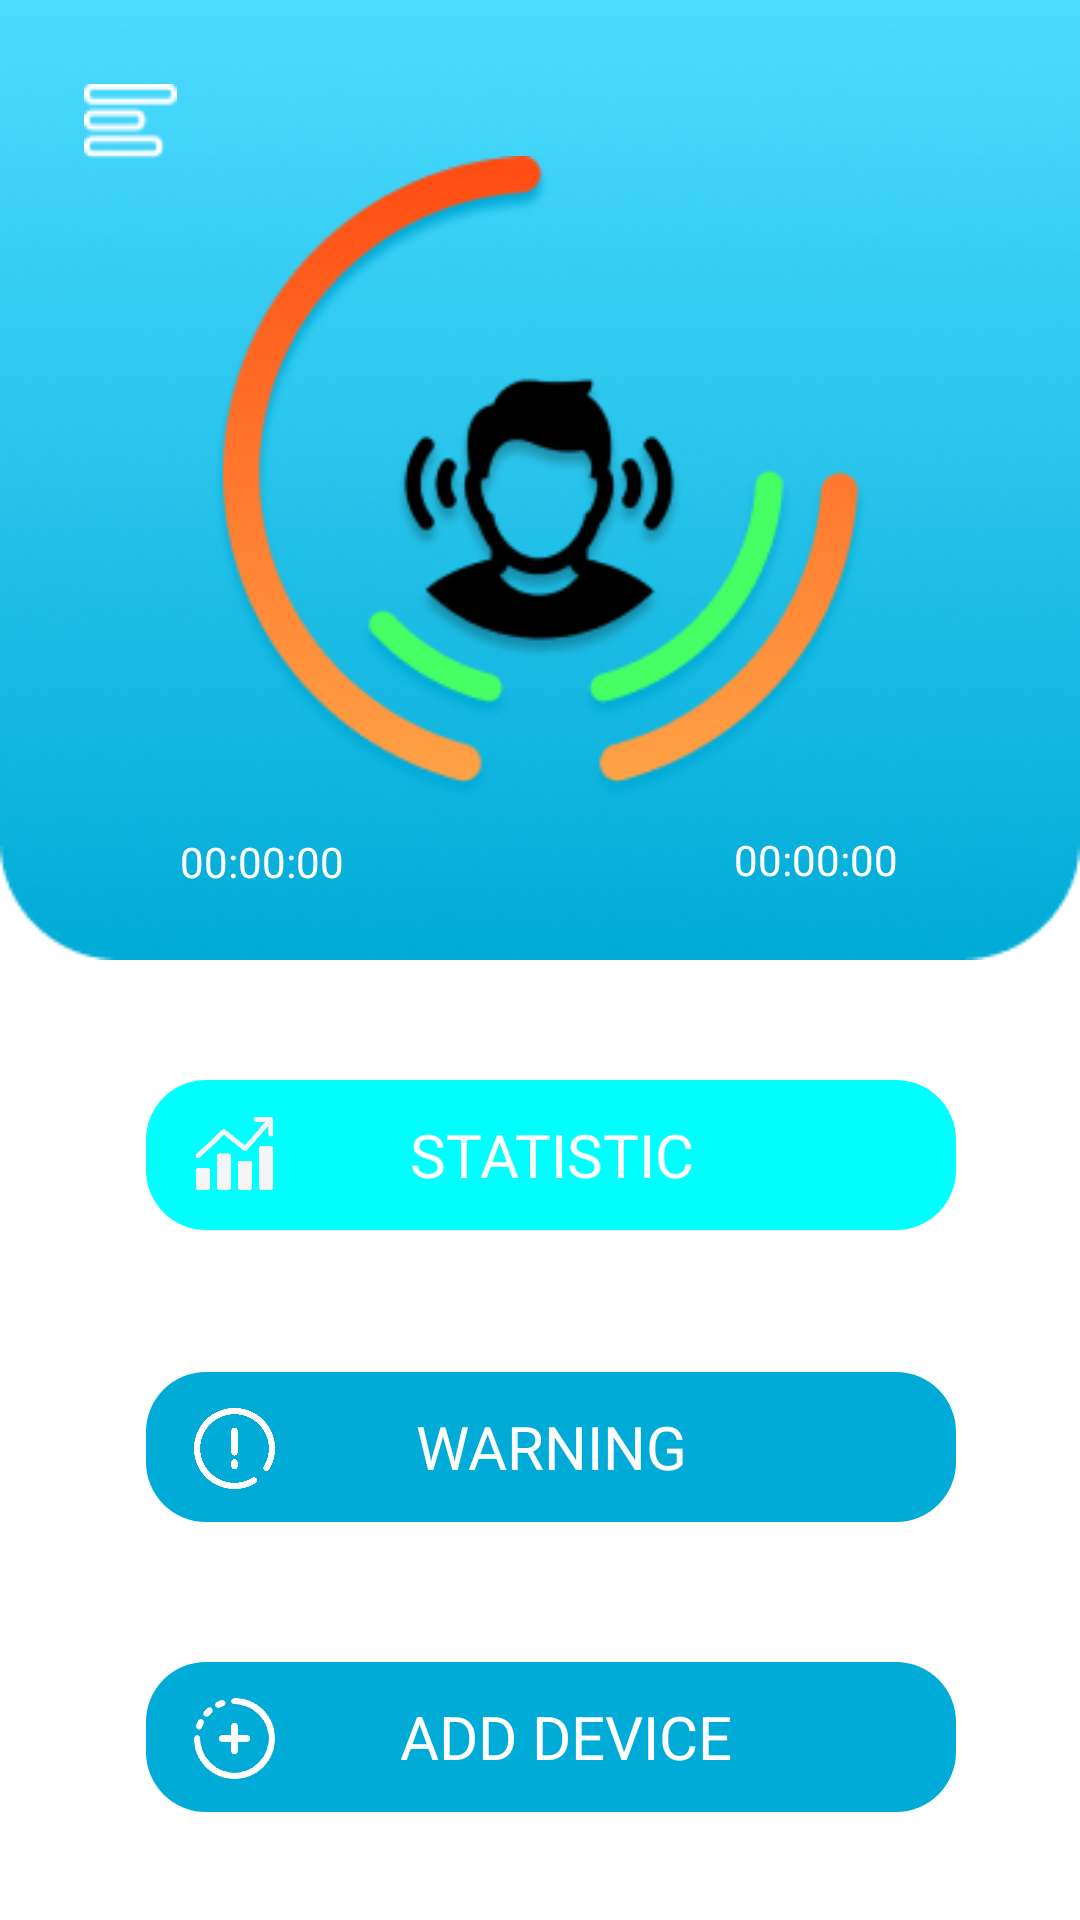

Screen size 1080 x 1920. Icon name, then its box in pixels as (x1, y1, x2, y2):
warng: (194, 1408, 275, 1489)
